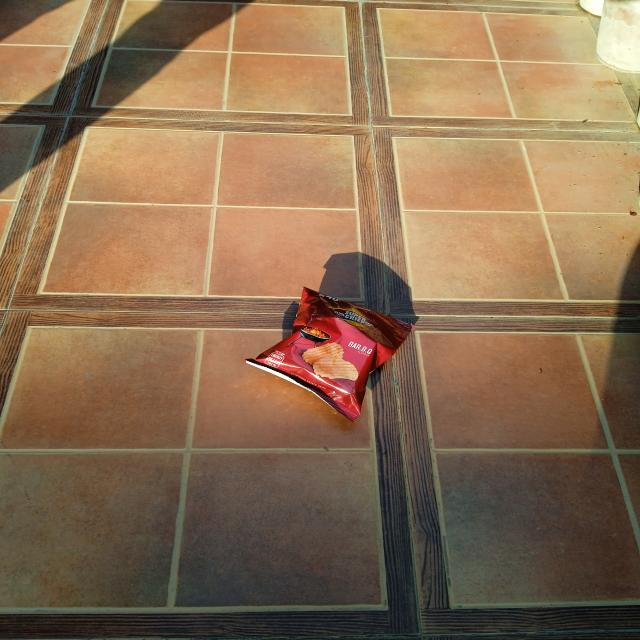Plastic: (253, 286, 411, 418)
